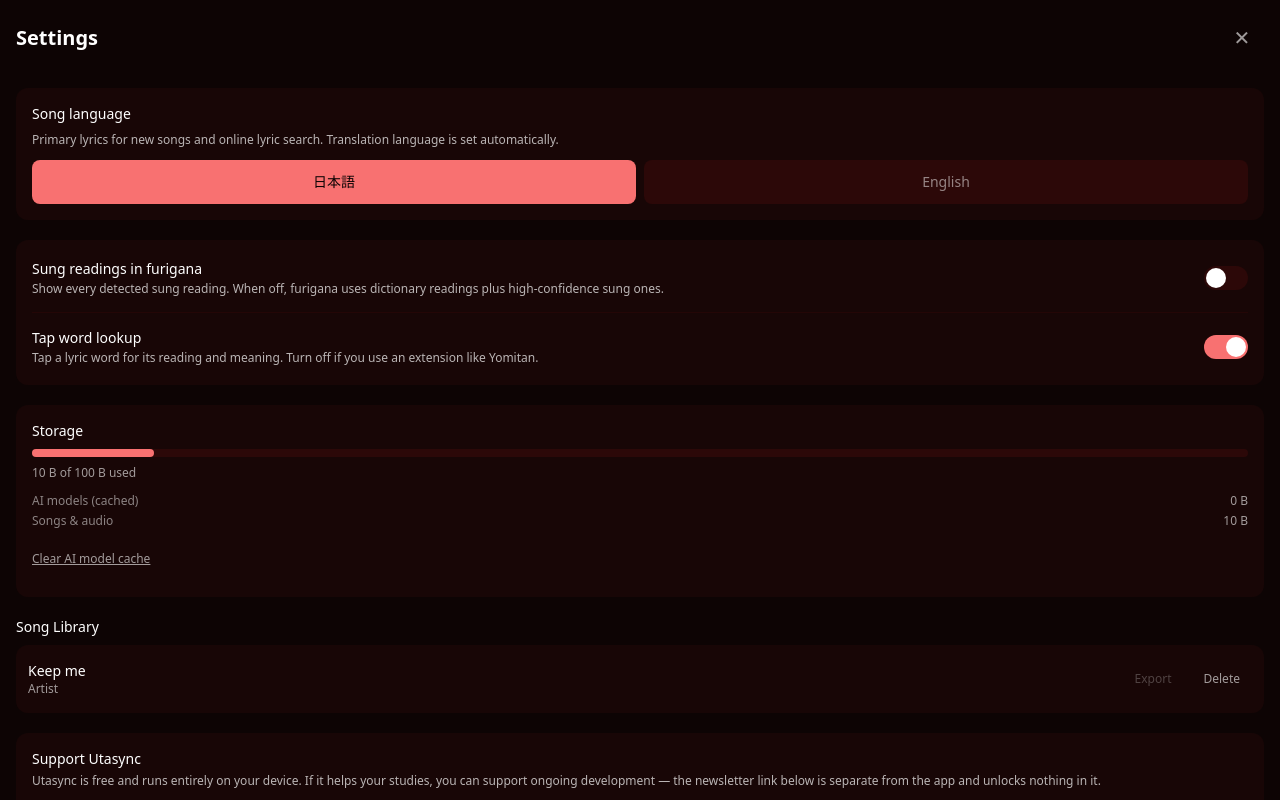
SettingsView delete with a failing storage estimate › still reports a genuine delete failure as a failure
The image size is (1280, 800).
Click the button with aria-label "Delete Keep me". click: (1222, 679)
box: [1192,657,1252,701]
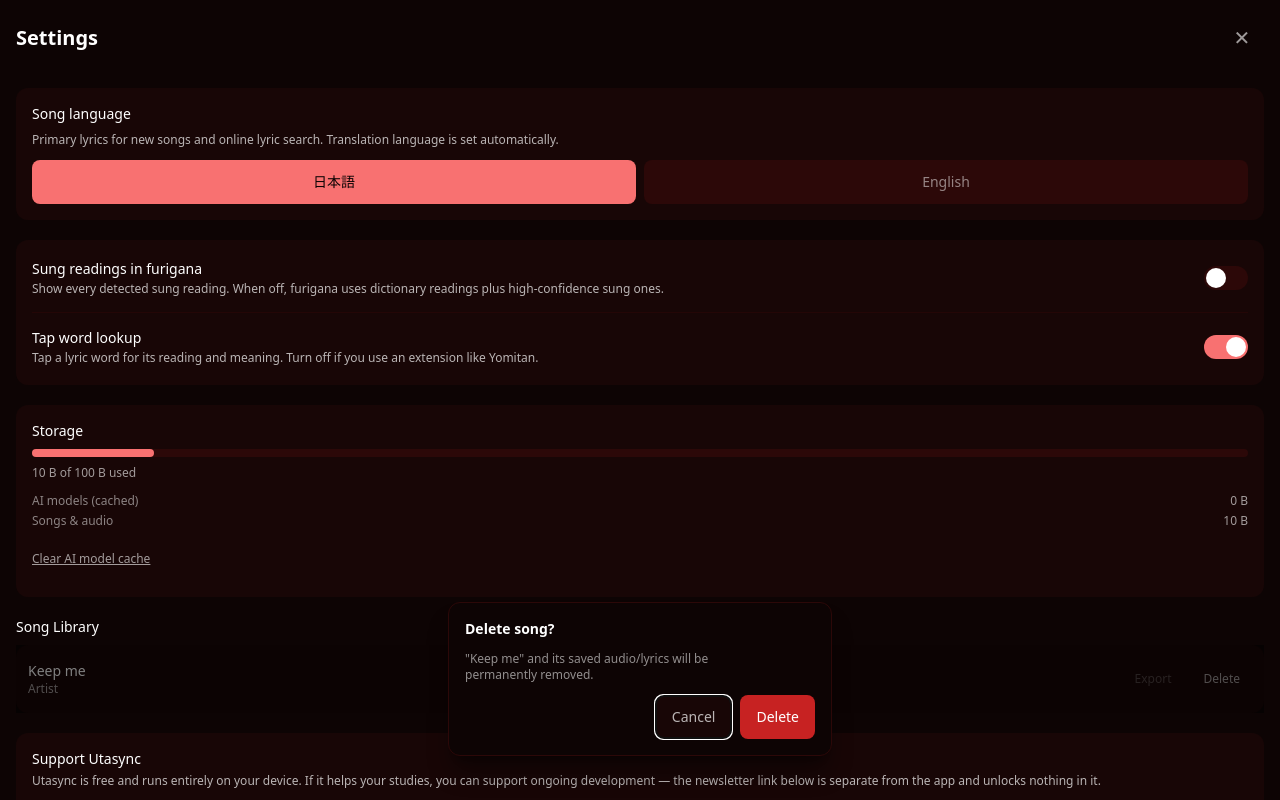
Click the button "Delete". click: (778, 717)
box: [740,695,815,739]
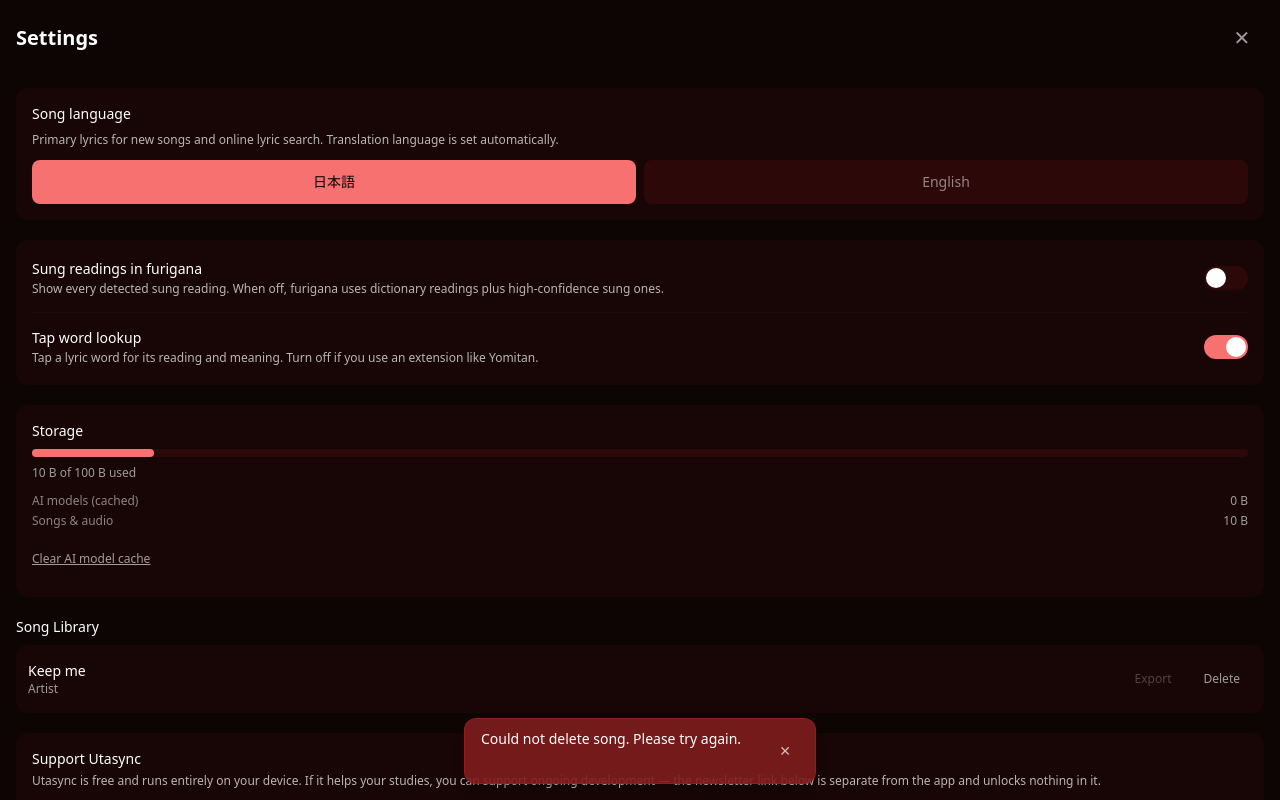
Expected: the text "Could not delete song. Please try again." is shown, [481,729,751,748]
